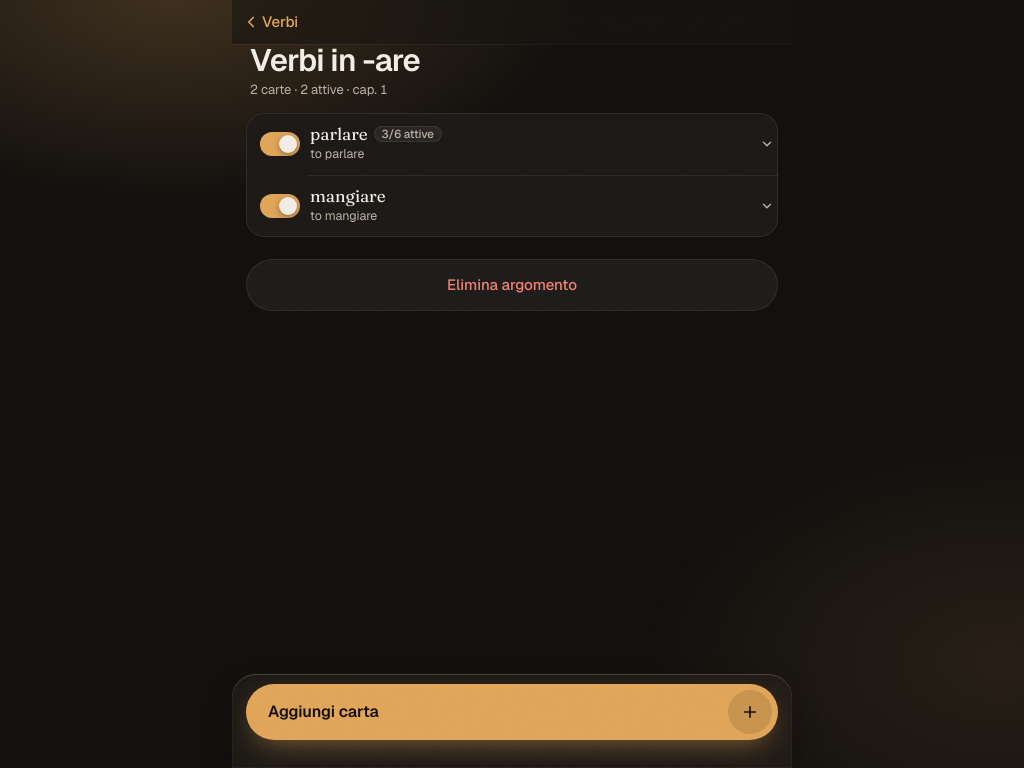
Test: Modifica argomento › turns a form on, keeping the others off
Click the button with class "ed-open" showing "parlare 3/6 attive to parlare". click: click(339, 133)
box: [306,113,778,175]
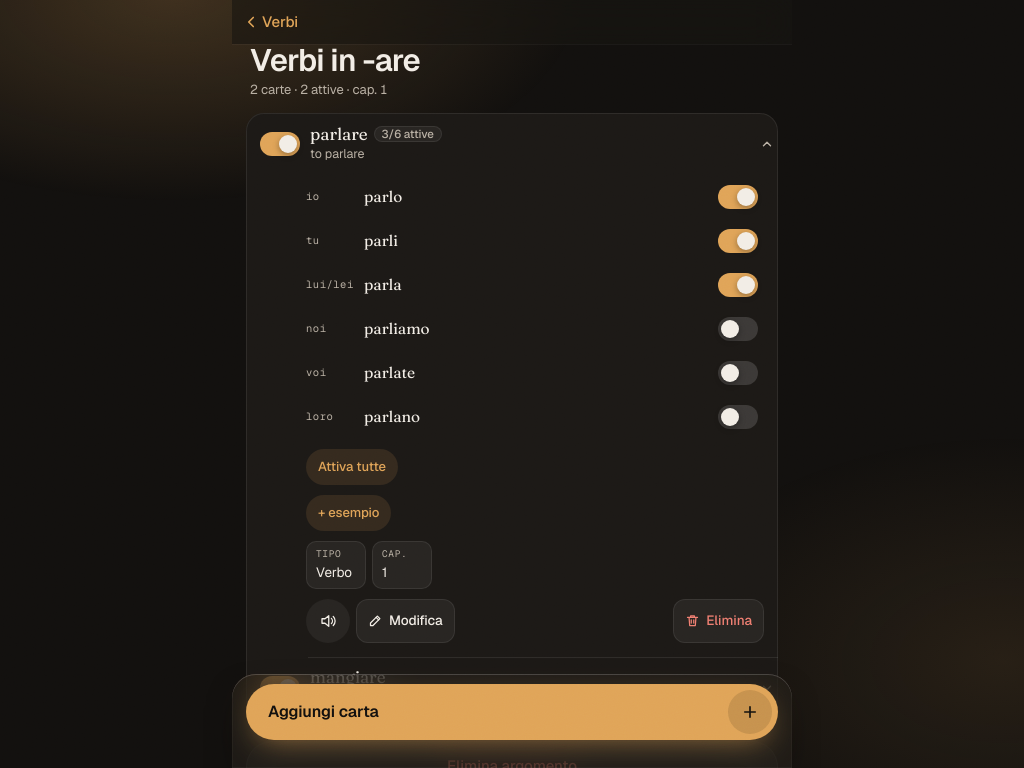
Click the switch named "Attiva · On: parliamo". click: click(738, 329)
box: [712,307,764,351]
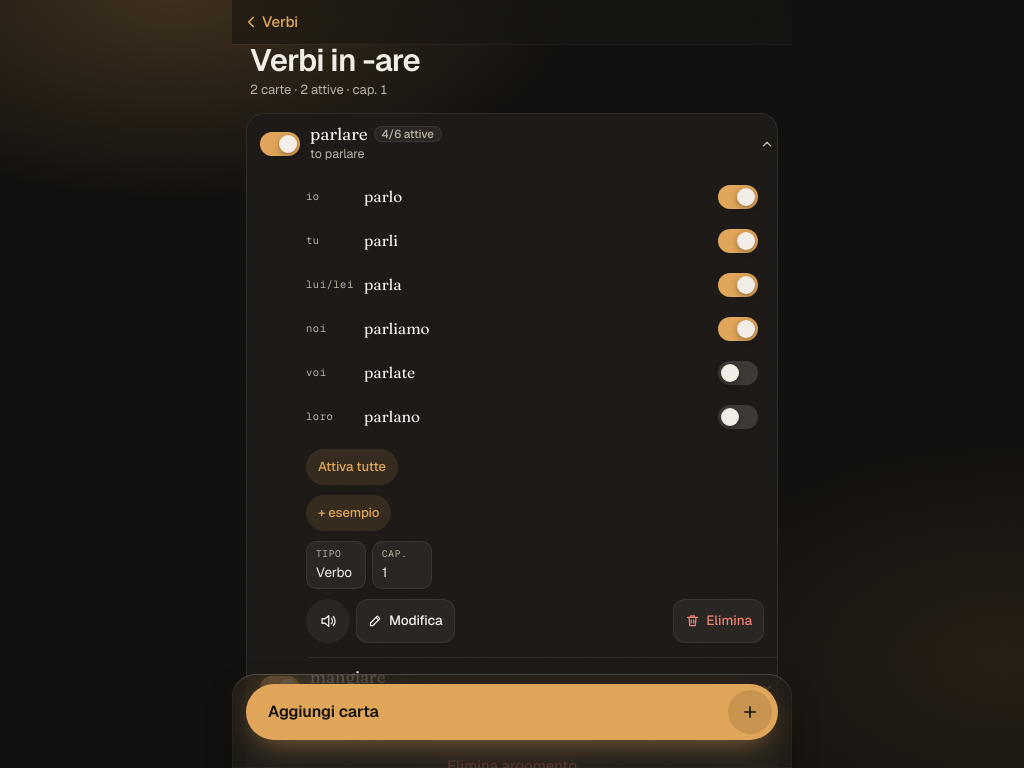
expect the text "4/6 attive" is shown: met, box [382,126,434,141]
